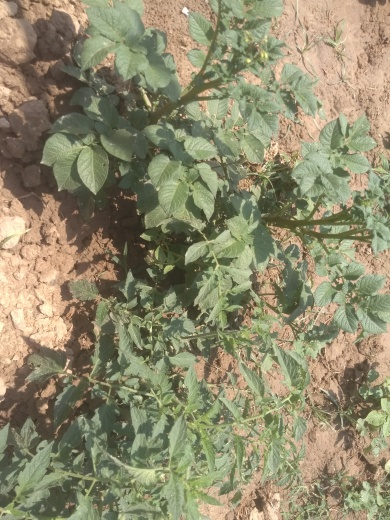tomato plant: (44, 1, 378, 305), (1, 292, 365, 515)
